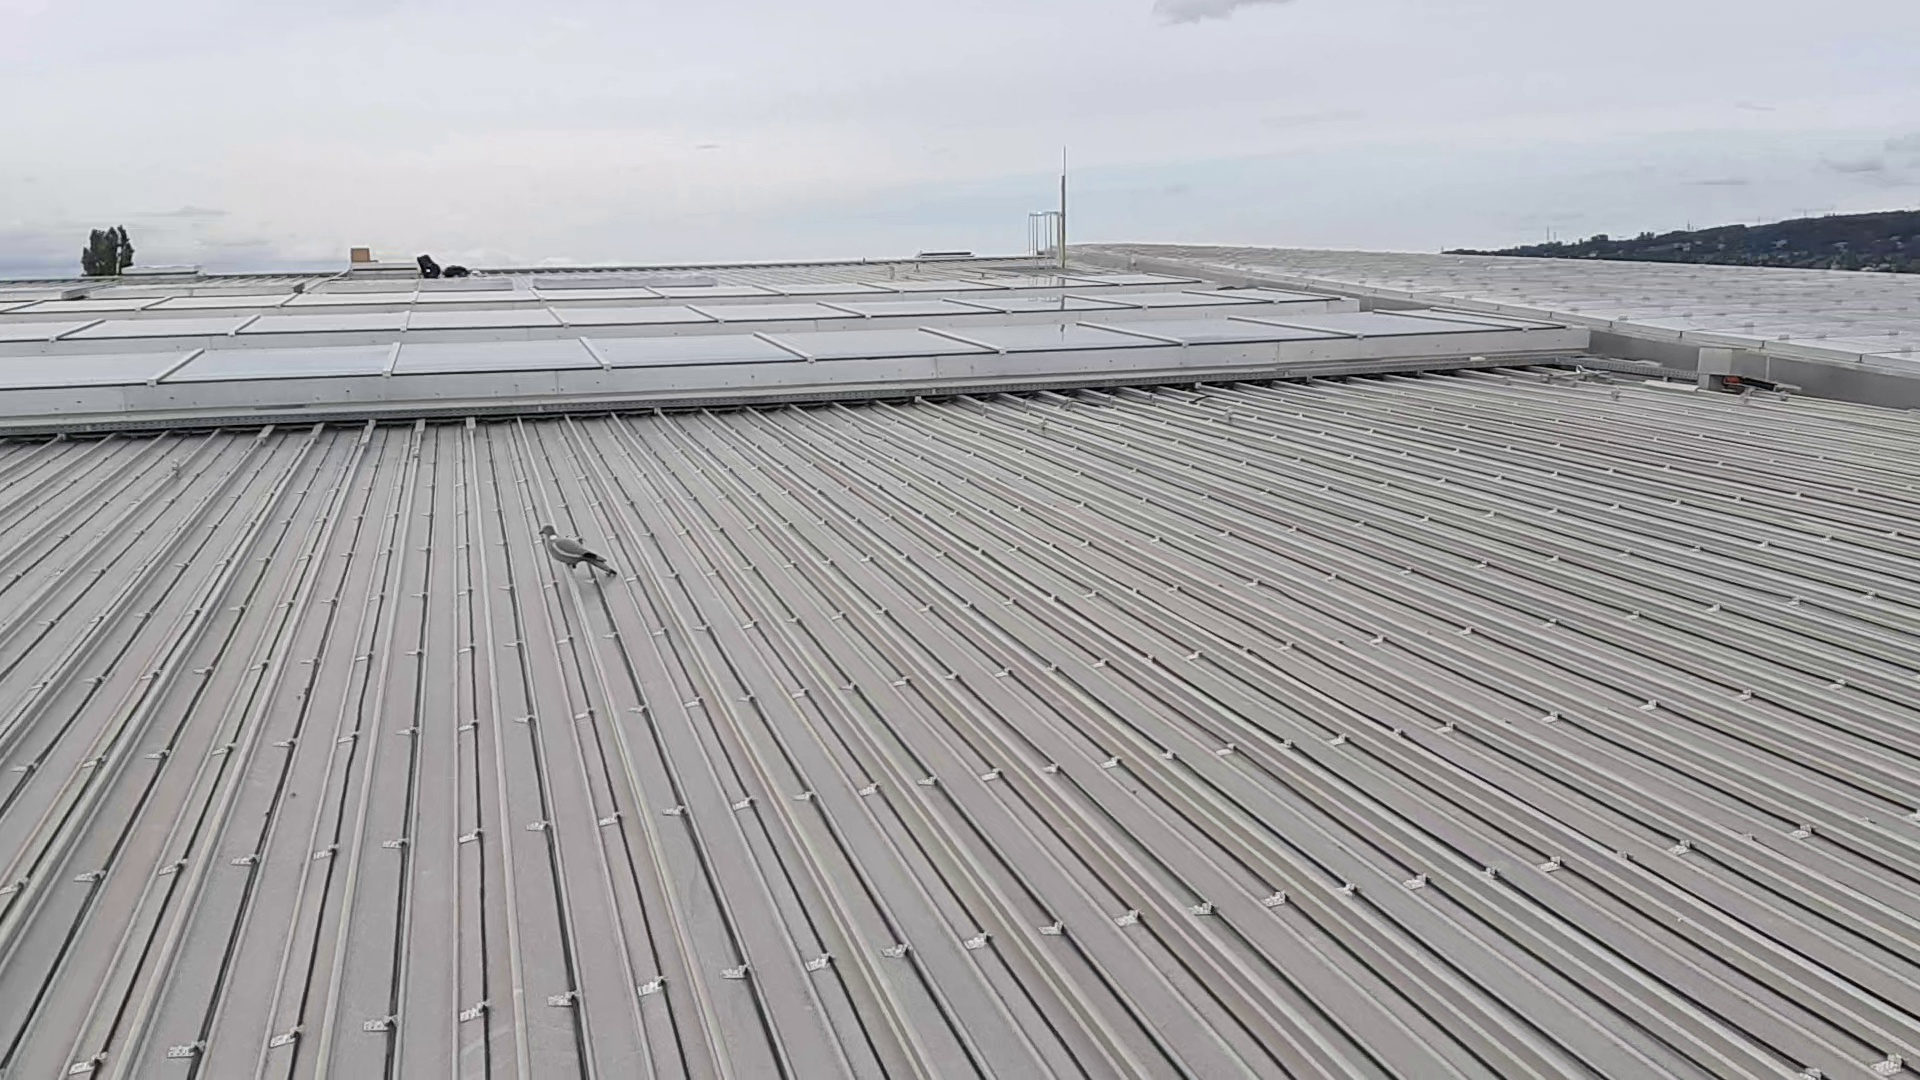Pigeon: (529, 520, 625, 580)
